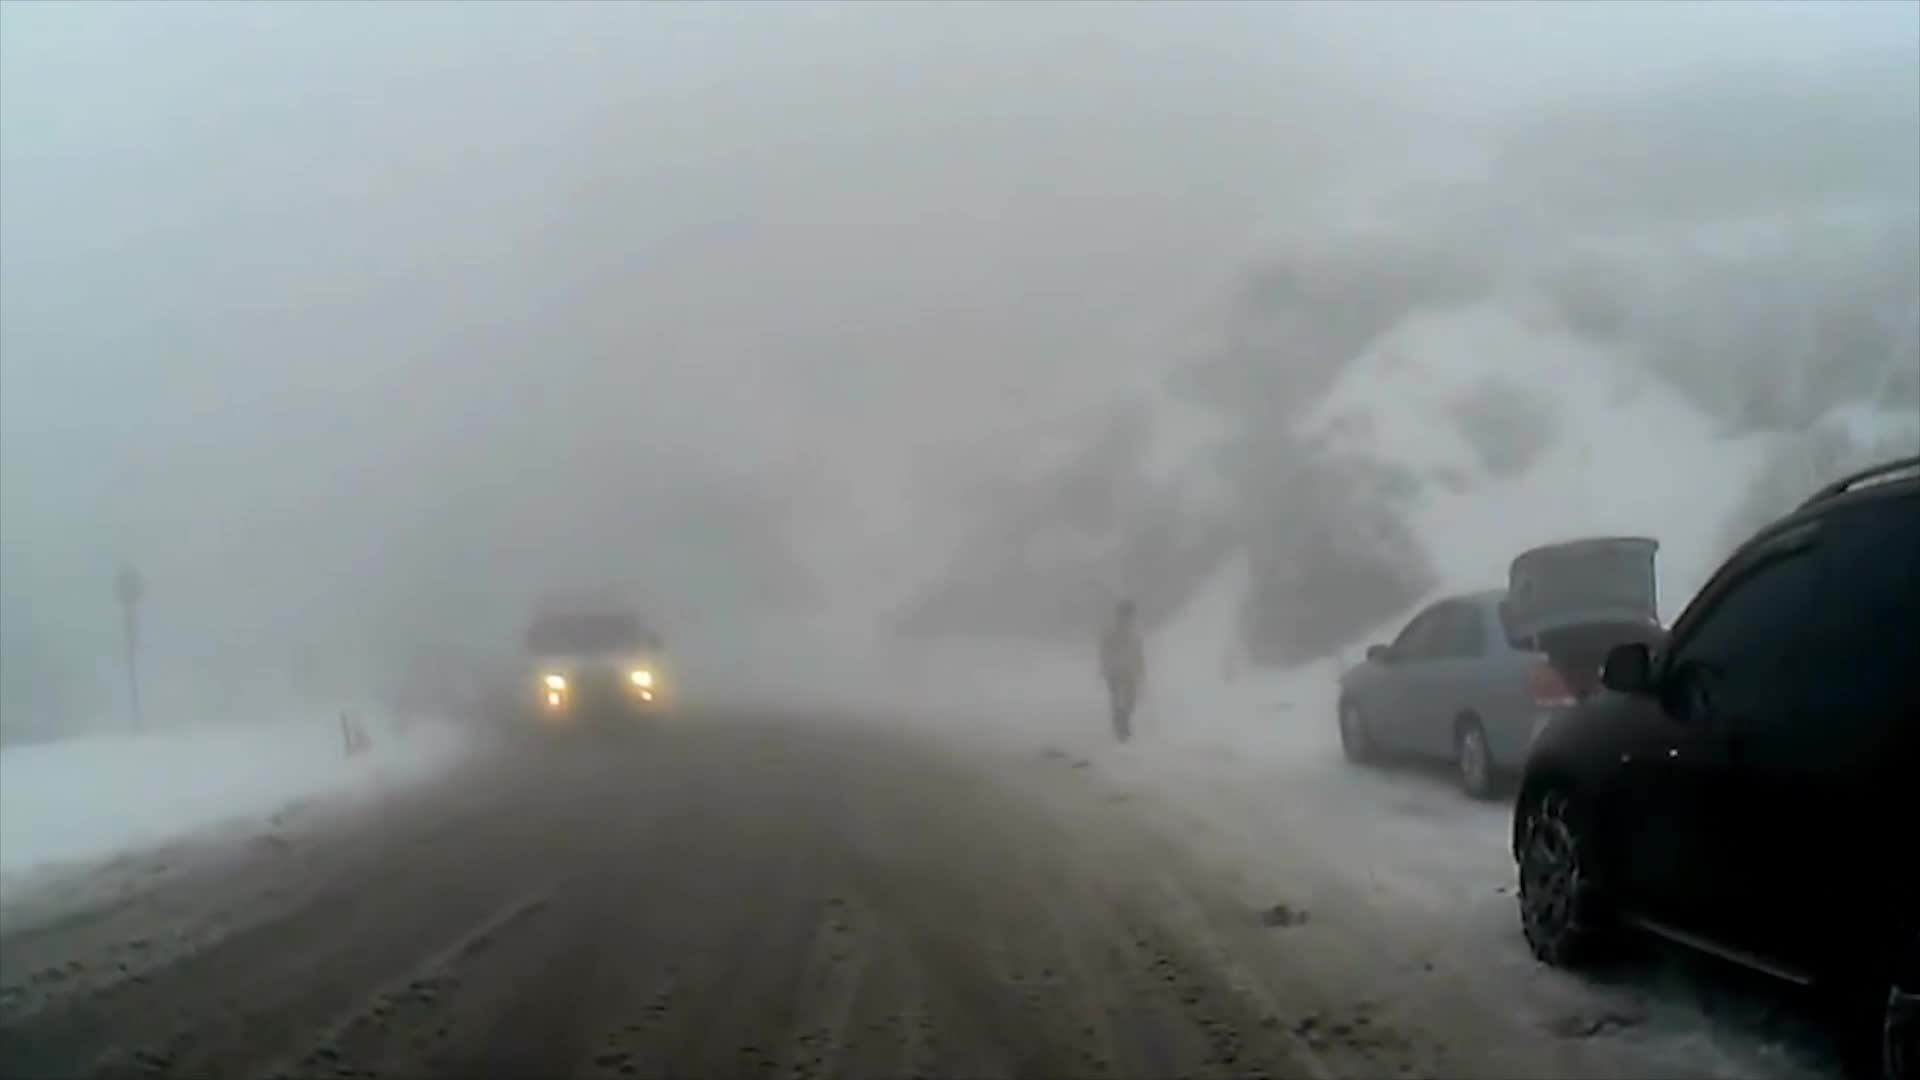pedestrian: (1102, 604, 1150, 740)
vehicle: (1508, 447, 1920, 1080), (1335, 530, 1694, 803), (518, 588, 665, 744)
